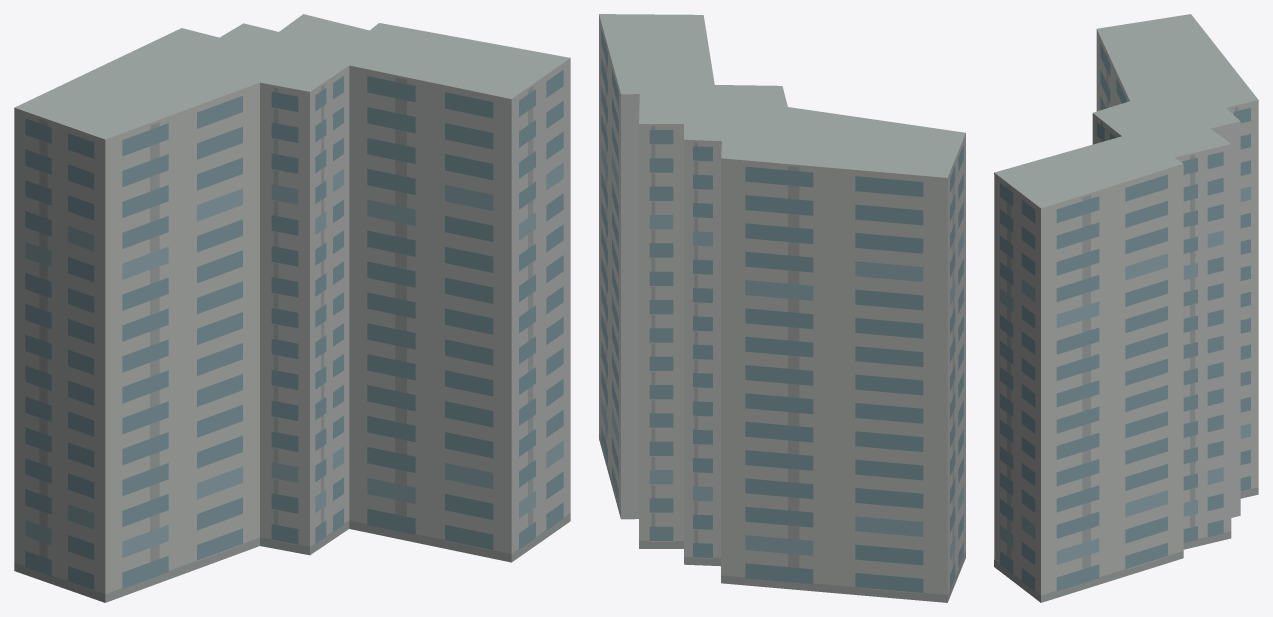
File: residential-c201ca71-47b3-4fb9-862e-379bc81ce471.glb
3 renders of one model, left to right at view 1: azimuth 30°, elevation 25°; view 2: azimuth 150°, elevation 25°; view 3: azimuth 270°, elevation 25°, orthographic. The views are drawn at different scales.
Parts seen in each view (by area): view 1: residential-c201ca71-47b3-4fb9-862e-379bc81ce471.tmp; view 2: residential-c201ca71-47b3-4fb9-862e-379bc81ce471.tmp; view 3: residential-c201ca71-47b3-4fb9-862e-379bc81ce471.tmp.
Boxes of the visible parts, box(x1,y1,x2,y2) form: residential-c201ca71-47b3-4fb9-862e-379bc81ce471.tmp: box(14, 14, 570, 602); residential-c201ca71-47b3-4fb9-862e-379bc81ce471.tmp: box(599, 14, 965, 602); residential-c201ca71-47b3-4fb9-862e-379bc81ce471.tmp: box(994, 14, 1258, 602).
Bounding box in the file's own units: 50.76 × 48 × 29.19.
